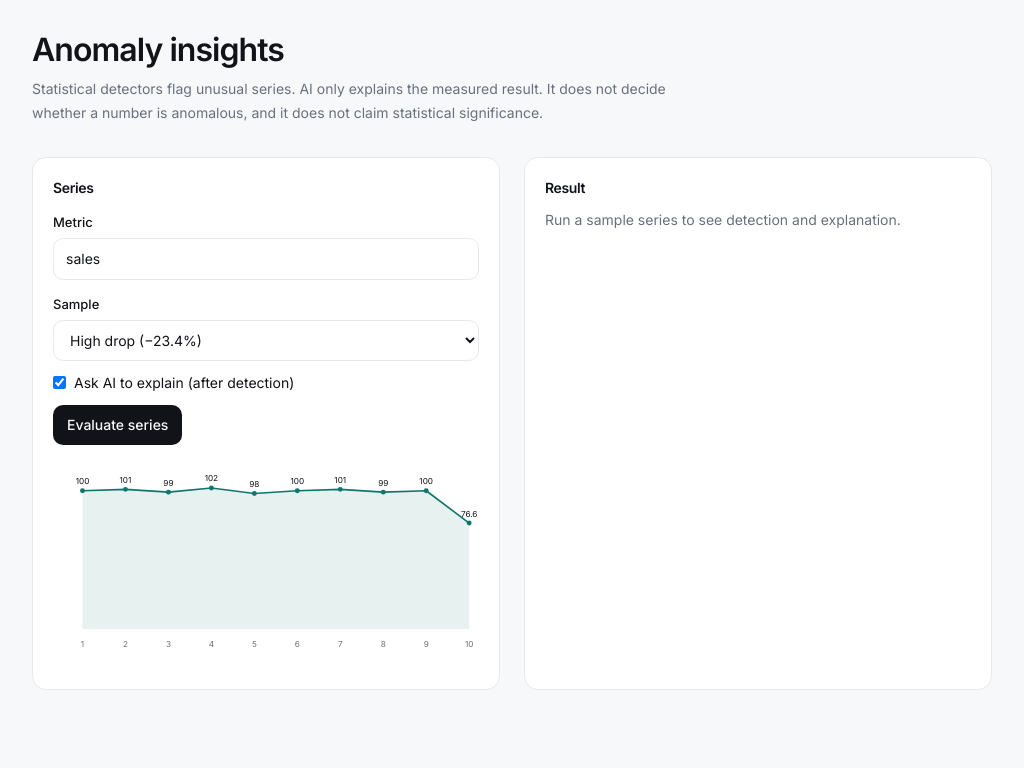
Test: AnomalyPage › evaluates a series and keeps evidence separate from explanation
What coordinates should you click on to do the following:
click the button "Evaluate series"
I would click on:
 (118, 425)
Its box is [53,405,182,445].
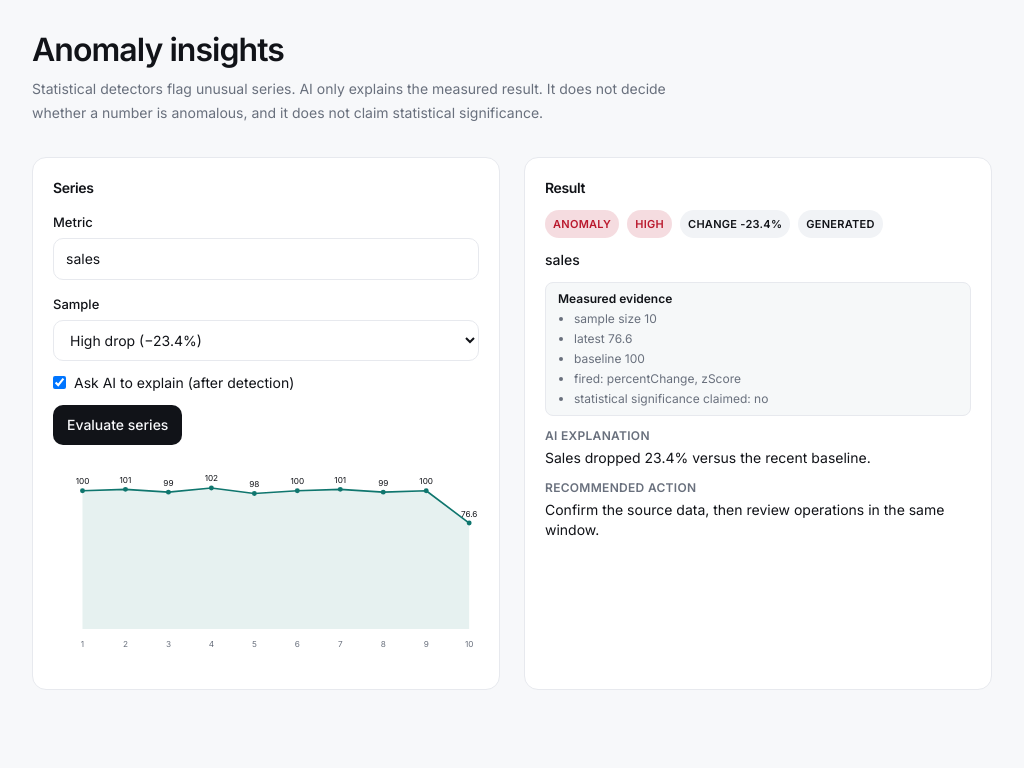
Now the text "Sales dropped 23.4% versus the recent baseline." is shown, box [545,449,871,466]
Now the text "HIGH" is shown, box [627,210,672,238]
Now the text "change -23.4%" is shown, box [680,210,790,238]
